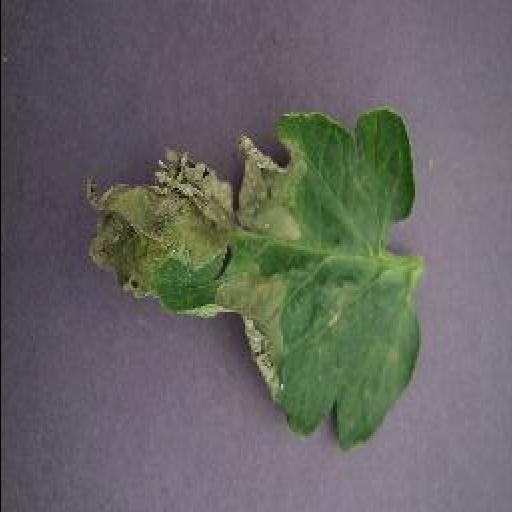disease_tomato: (82, 108, 428, 454)
